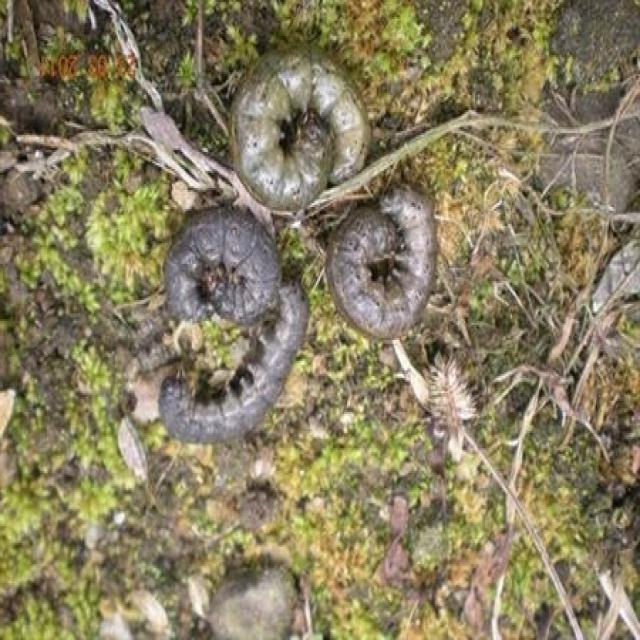black cutworm: (210, 52, 379, 223), (156, 280, 311, 455), (320, 189, 450, 349), (155, 212, 283, 329)
